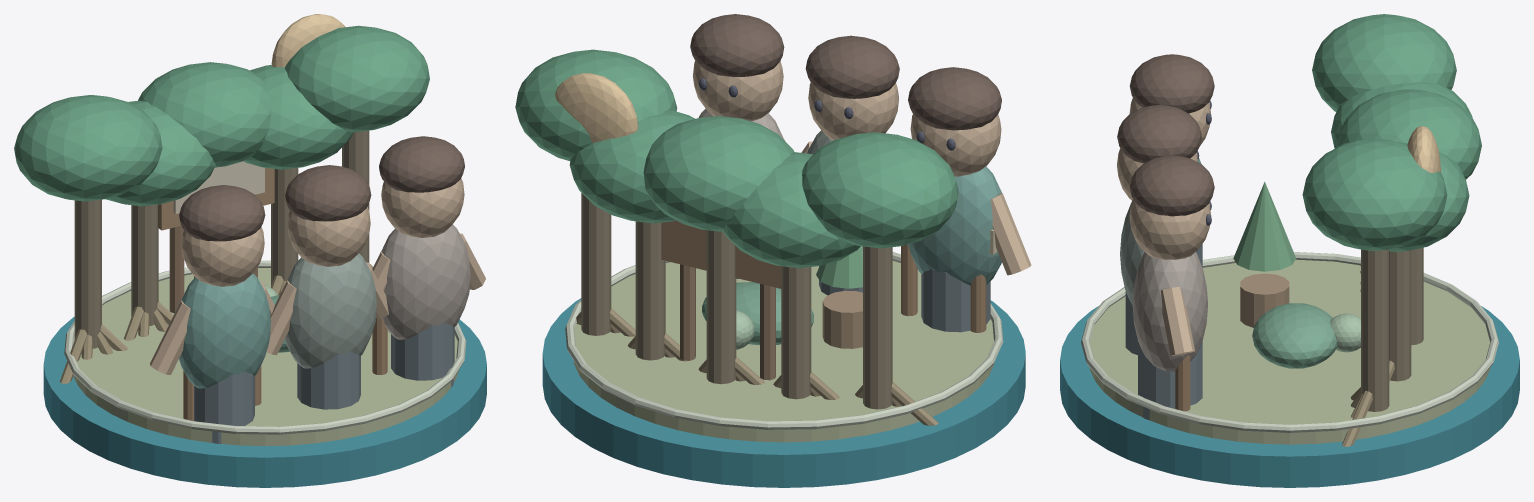
Rendered from the-map-beneath-the-mangroves-scene-3.glb.
3 views of the same model, side by side, from view 1: azimuth 30°, elevation 25°; view 2: azimuth 150°, elevation 25°; view 3: azimuth 270°, elevation 25° (orthographic). The views are drawn at different scales.
Parts seen in each view (by area): view 1: deep water plinth, shore or habitat, protected mangrove seedling 0 canopy, protected mangrove seedling 4 canopy, protected mangrove seedling 2 canopy, coastal volunteer 1 coat, coastal volunteer 0 coat, coastal volunteer 2 coat, protected mangrove seedling 3 canopy, outer waterline, protected mangrove seedling 1 canopy, coastal volunteer 0 hair (+20 smaller); view 2: shore or habitat, deep water plinth, protected mangrove seedling 0 canopy, protected mangrove seedling 2 canopy, protected mangrove seedling 4 canopy, protected mangrove seedling 1 canopy, protected mangrove seedling 3 canopy, coastal volunteer 0 coat, outer waterline, protected mangrove seedling 0 trunk, coastal volunteer 1 hair, coastal volunteer 2 hair (+21 smaller); view 3: shore or habitat, deep water plinth, protected mangrove seedling 4 canopy, protected mangrove seedling 0 canopy, outer waterline, protected mangrove seedling 2 canopy, coastal volunteer 2 coat, protected mangrove seedling 4 trunk, turtle returning to inlet, coastal volunteer 2 hair, coastal volunteer 0 hair, coastal volunteer 1 hair (+16 smaller).
Boxes of the visible parts, box(x1,y1,x2,y2) form: deep water plinth: box(43, 316, 486, 487); shore or habitat: box(73, 268, 458, 446); protected mangrove seedling 0 canopy: box(14, 95, 162, 201); protected mangrove seedling 4 canopy: box(285, 25, 429, 132); protected mangrove seedling 2 canopy: box(138, 62, 271, 167); coastal volunteer 1 coat: box(285, 253, 376, 368); coastal volunteer 0 coat: box(179, 273, 270, 388); coastal volunteer 2 coat: box(381, 224, 470, 339); protected mangrove seedling 3 canopy: box(243, 65, 353, 169); outer waterline: box(64, 260, 466, 434); protected mangrove seedling 1 canopy: box(106, 100, 215, 206); coastal volunteer 0 hair: box(179, 185, 265, 241); shore or habitat: box(573, 261, 994, 442); deep water plinth: box(542, 298, 1025, 487); protected mangrove seedling 0 canopy: box(802, 132, 958, 248); protected mangrove seedling 2 canopy: box(643, 116, 794, 231); protected mangrove seedling 4 canopy: box(515, 49, 677, 161); protected mangrove seedling 1 canopy: box(723, 152, 860, 268); protected mangrove seedling 3 canopy: box(569, 110, 694, 223); coastal volunteer 0 coat: box(908, 166, 1001, 285); outer waterline: box(565, 252, 1003, 429); protected mangrove seedling 0 trunk: box(863, 246, 892, 409); coastal volunteer 1 hair: box(805, 35, 899, 98); coastal volunteer 2 hair: box(690, 14, 784, 76); shore or habitat: box(1089, 259, 1490, 444); deep water plinth: box(1060, 306, 1519, 487); protected mangrove seedling 4 canopy: box(1302, 138, 1447, 250); protected mangrove seedling 0 canopy: box(1312, 14, 1456, 111); outer waterline: box(1081, 252, 1498, 432); protected mangrove seedling 2 canopy: box(1337, 89, 1481, 179); coastal volunteer 2 coat: box(1132, 252, 1207, 371); protected mangrove seedling 4 trunk: box(1361, 249, 1389, 411); turtle returning to inlet: box(1252, 303, 1337, 368); coastal volunteer 2 hair: box(1129, 155, 1214, 216); coastal volunteer 0 hair: box(1129, 54, 1214, 113); coastal volunteer 1 hair: box(1117, 105, 1201, 163).
Bounding box in the file's own units: 0.78 × 0.5772 × 0.7592.
